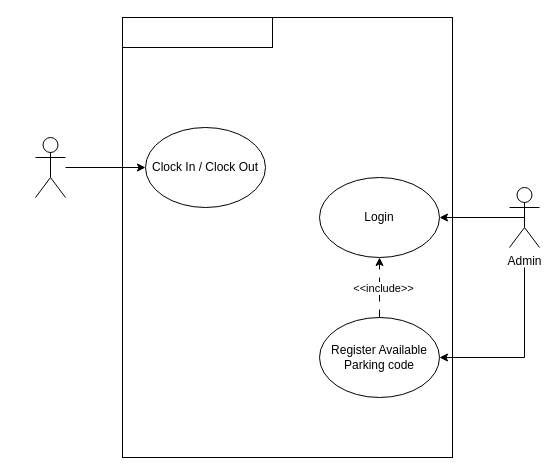
The diagram is 559 pixels wide and 475 high, and some of its shapes have lost their labels. Each missing label, with the centre of its shape:
"Parking UseCase" belongs at (197,32).
"Vehicle User" belongs at (50,167).
